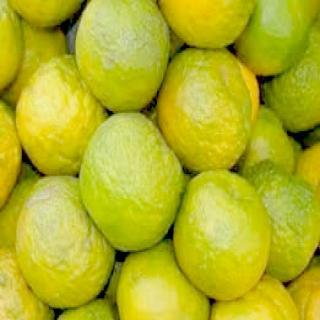orange: (77, 107, 181, 265), (157, 36, 260, 174), (70, 0, 172, 112)
